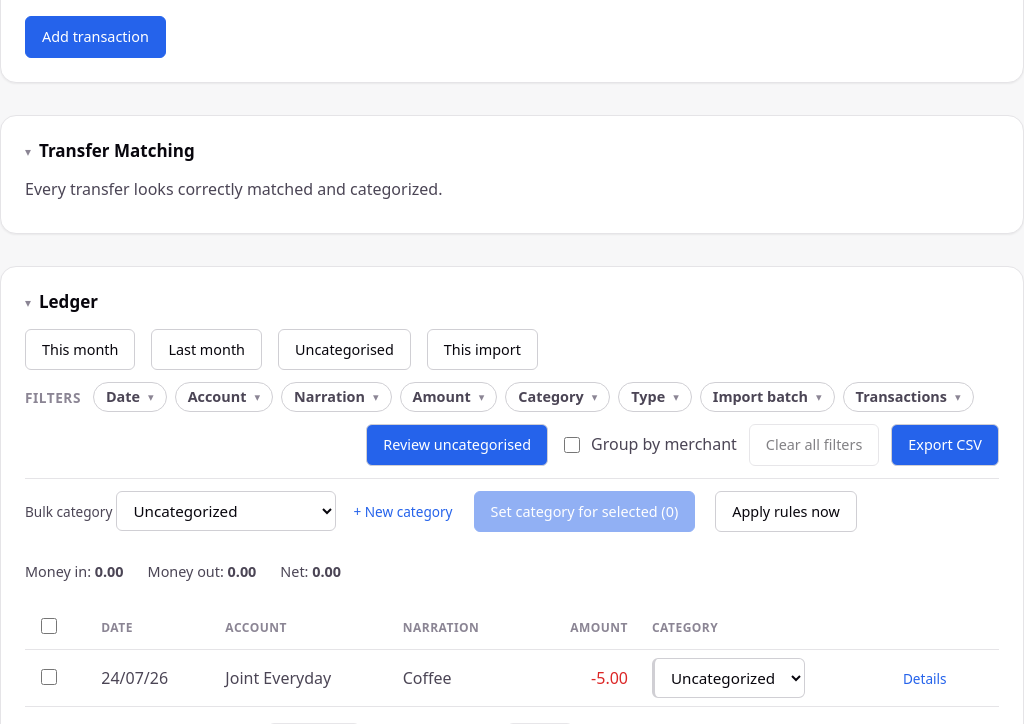
Test: TransactionsPage › the This import preset scopes to the most recent batch
The image size is (1024, 724).
(page scrolled)
Expected: the text "Coffee" is shown, [391,650,528,707]
Click the button "This import".
click(482, 350)  # box [427,329,538,370]
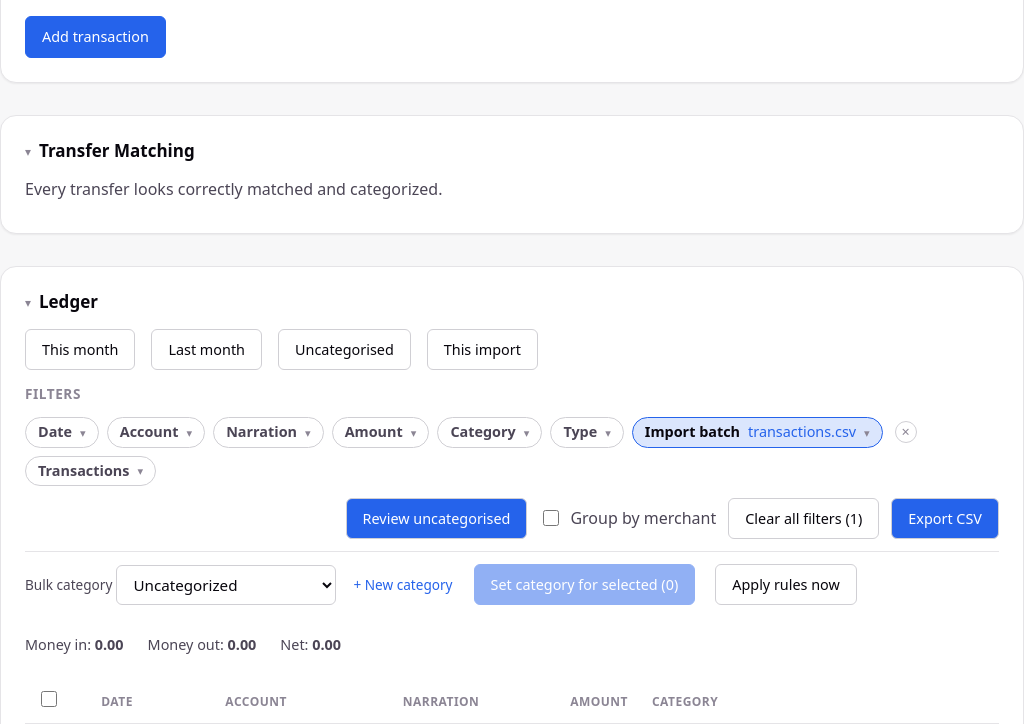
Result: the button with aria-label "Filter by Import batch" shows "transactions.csv" at [632,417,883,448]
